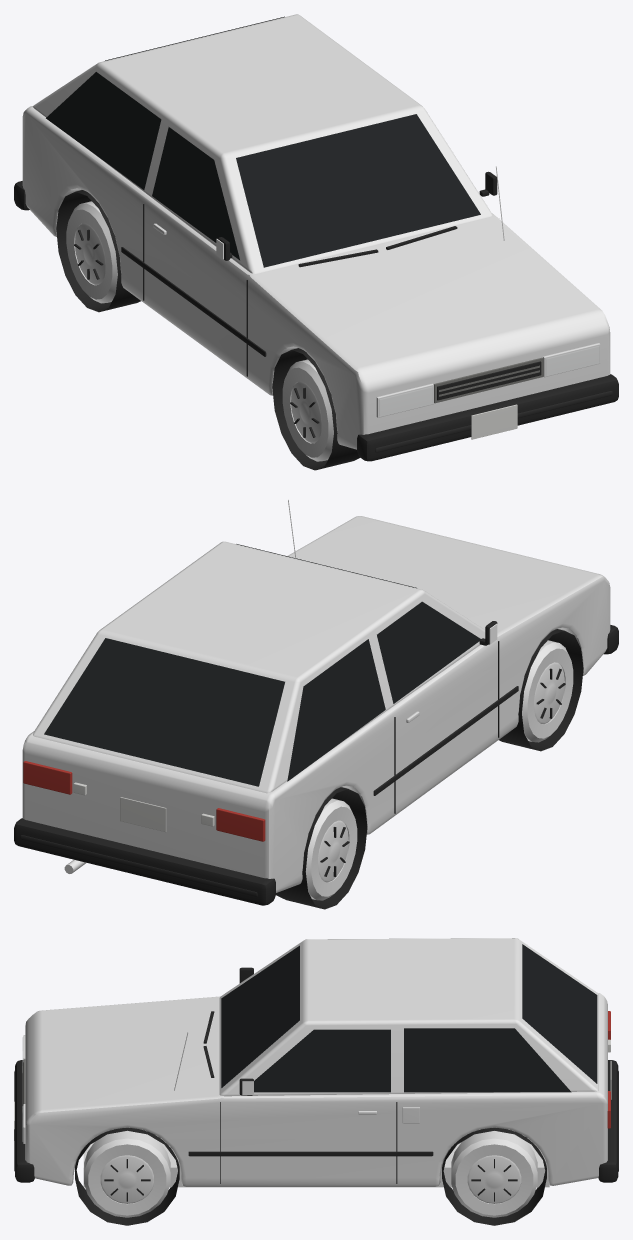
File: SM_Car_Hatch_Green.fbx
3 views of the same model, one above another, from view 1: azimuth 30°, elevation 25°; view 2: azimuth 150°, elevation 25°; view 3: azimuth 270°, elevation 25° (orthographic). The views are drawn at different scales.
Parts seen in each view (by area): view 1: SM_Car_Hatch_Green; view 2: SM_Car_Hatch_Green; view 3: SM_Car_Hatch_Green.
Part boxes in pixels (x1,y1,x2,y2): SM_Car_Hatch_Green: (14,14,618,470); SM_Car_Hatch_Green: (14,499,618,909); SM_Car_Hatch_Green: (14,938,618,1225).
Size of the model in its own units: 185 by 148 by 415.
